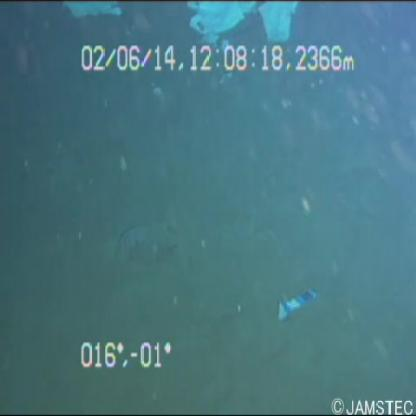Rác: (180, 1, 255, 43), (52, 1, 126, 31), (260, 1, 296, 42)
